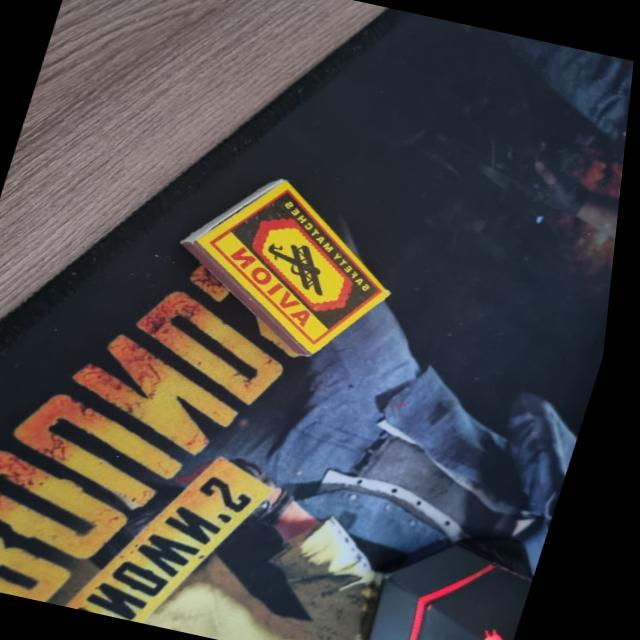match: (149, 157, 429, 375)
